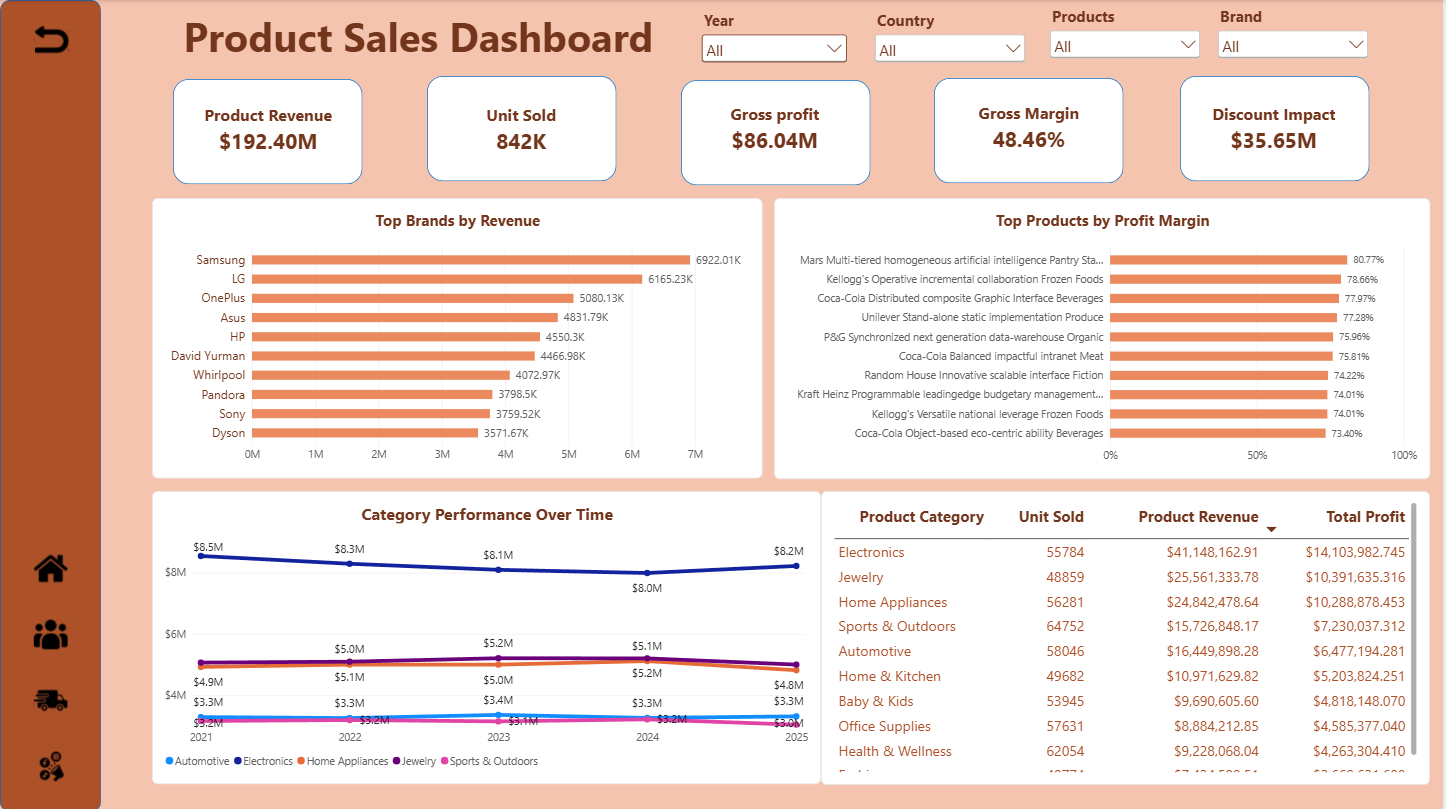

What the dashboard file says about the page in this screenshot:
{"tool":"powerbi","page":{"name":"Product Dashboard","canvas":[1920,1080],"ordinal":1},"visuals":[{"type":"shape","box":[230.5,105.3,252,140],"z":0},{"type":"shape","box":[0,0,134.3,1080],"z":1000},{"type":"cardVisual","fields":{"Data":["Measure Table.Product Revenue"]},"box":[249.1,113.7,217,118.2],"z":2000},{"type":"shape","box":[1242.7,103.5,252,140],"z":3000},{"type":"shape","box":[905.3,107.1,252,140],"z":4000},{"type":"shape","box":[567.9,101.7,252,140],"z":5000},{"type":"cardVisual","fields":{"Data":["Measure Table.Unit Sold"]},"box":[584.7,113.1,217,118.2],"z":6000},{"type":"cardVisual","fields":{"Data":["Measure Table.Gross profit on Product"]},"box":[918.8,123.7,223.7,95.2],"z":7000},{"type":"cardVisual","fields":{"Data":["Measure Table.Gross Margin"]},"box":[1257.3,123,223.7,95.2],"z":8000},{"type":"clusteredBarChart","title":"Top Brands by Revenue","fields":{"Category":["products.brand"],"Y":["Sum(order_items.net_sales)"]},"box":[201.7,263.3,811.7,373.3],"z":9000},{"type":"clusteredBarChart","title":"Top Products by Profit Margin","fields":{"Category":["products.product_name"],"Y":["Measure Table.Product Gross Margin"]},"box":[1029.5,263.3,872.5,373.7],"z":10000},{"type":"lineChart","title":"Category Performance Over Time","fields":{"Category":["Calendar.Date.Variation.Date Hierarchy.Year"],"Series":["products.product_category"],"Y":["Measure Table.Product Revenue"]},"box":[201.7,653.3,890,390],"z":11000},{"type":"tableEx","fields":{"Values":["products.product_category","Measure Table.Unit Sold","Measure Table.Product Revenue","Measure Table.Total Profit"]},"box":[1092,653.1,810,391],"z":12000},{"type":"slicer","title":"Year","fields":{"Values":["Calendar.Year"]},"box":[928.3,11.7,202.6,99.8],"z":13000},{"type":"slicer","fields":{"Values":["customer.customer_country"]},"box":[1158.3,11.7,210.1,81.6],"z":14000},{"type":"slicer","fields":{"Values":["products.product_category"]},"box":[1391.7,6.7,210.1,81.6],"z":15000},{"type":"slicer","fields":{"Values":["products.brand"]},"box":[1615,6.7,210.1,81.6],"z":16000},{"type":"shape","box":[1570,101.7,252,140],"z":17000},{"type":"cardVisual","fields":{"Data":["Measure Table.Discount Impact"]},"box":[1583.3,123.3,223.7,95.2],"z":18000},{"type":"textbox","box":[100,10,913.3,91.7],"z":19000},{"type":"actionButton","box":[12,711.6,111.7,88.3],"z":20000},{"type":"actionButton","box":[12,887.1,111.7,88.3],"z":21000},{"type":"actionButton","box":[12,799.4,111.7,88.3],"z":22000},{"type":"actionButton","box":[13.3,974.9,111.7,88.3],"z":23000},{"type":"actionButton","box":[13.3,8,111.7,88.3],"z":23001}]}

Visuals, with their boxes on the page's 1920x1080 design canvas (x1, y1, x2, y2). These are canvas units, not pixel positions in the 1446x809 screenshot, which may show the page scaled, cropped or inside an application window:
shape: {"x1": 230, "y1": 105, "x2": 482, "y2": 245}
shape: {"x1": 0, "y1": 0, "x2": 134, "y2": 1080}
cardVisual - Measure Table.Product Revenue: {"x1": 249, "y1": 114, "x2": 466, "y2": 232}
shape: {"x1": 1243, "y1": 104, "x2": 1495, "y2": 244}
shape: {"x1": 905, "y1": 107, "x2": 1157, "y2": 247}
shape: {"x1": 568, "y1": 102, "x2": 820, "y2": 242}
cardVisual - Measure Table.Unit Sold: {"x1": 585, "y1": 113, "x2": 802, "y2": 231}
cardVisual - Measure Table.Gross profit on Product: {"x1": 919, "y1": 124, "x2": 1142, "y2": 219}
cardVisual - Measure Table.Gross Margin: {"x1": 1257, "y1": 123, "x2": 1481, "y2": 218}
"Top Brands by Revenue" clusteredBarChart: {"x1": 202, "y1": 263, "x2": 1013, "y2": 637}
"Top Products by Profit Margin" clusteredBarChart: {"x1": 1030, "y1": 263, "x2": 1902, "y2": 637}
"Category Performance Over Time" lineChart: {"x1": 202, "y1": 653, "x2": 1092, "y2": 1043}
tableEx - products.product_category x Measure Table.Unit Sold: {"x1": 1092, "y1": 653, "x2": 1902, "y2": 1044}
"Year" slicer: {"x1": 928, "y1": 12, "x2": 1131, "y2": 112}
slicer - customer.customer_country: {"x1": 1158, "y1": 12, "x2": 1368, "y2": 93}
slicer - products.product_category: {"x1": 1392, "y1": 7, "x2": 1602, "y2": 88}
slicer - products.brand: {"x1": 1615, "y1": 7, "x2": 1825, "y2": 88}
shape: {"x1": 1570, "y1": 102, "x2": 1822, "y2": 242}
cardVisual - Measure Table.Discount Impact: {"x1": 1583, "y1": 123, "x2": 1807, "y2": 218}
textbox: {"x1": 100, "y1": 10, "x2": 1013, "y2": 102}
actionButton: {"x1": 12, "y1": 712, "x2": 124, "y2": 800}
actionButton: {"x1": 12, "y1": 887, "x2": 124, "y2": 975}
actionButton: {"x1": 12, "y1": 799, "x2": 124, "y2": 888}
actionButton: {"x1": 13, "y1": 975, "x2": 125, "y2": 1063}
actionButton: {"x1": 13, "y1": 8, "x2": 125, "y2": 96}
